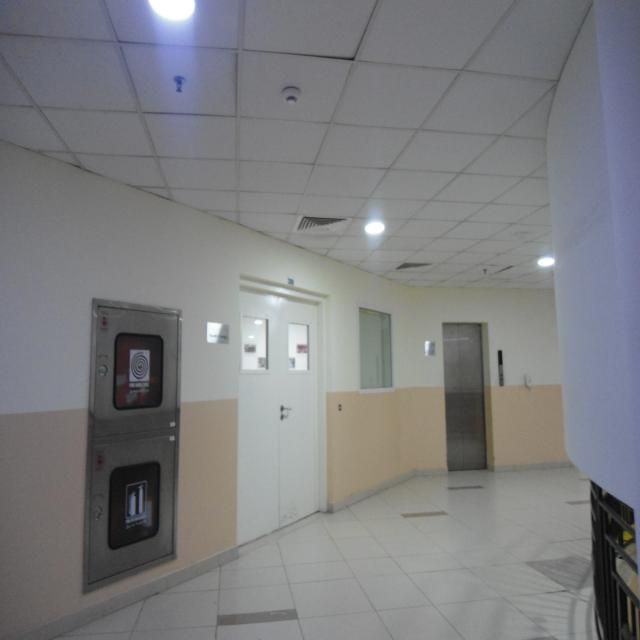door: (237, 276, 327, 544)
lift: (443, 323, 486, 471)
liftbutton: (497, 350, 504, 386)
window: (360, 308, 392, 389)
